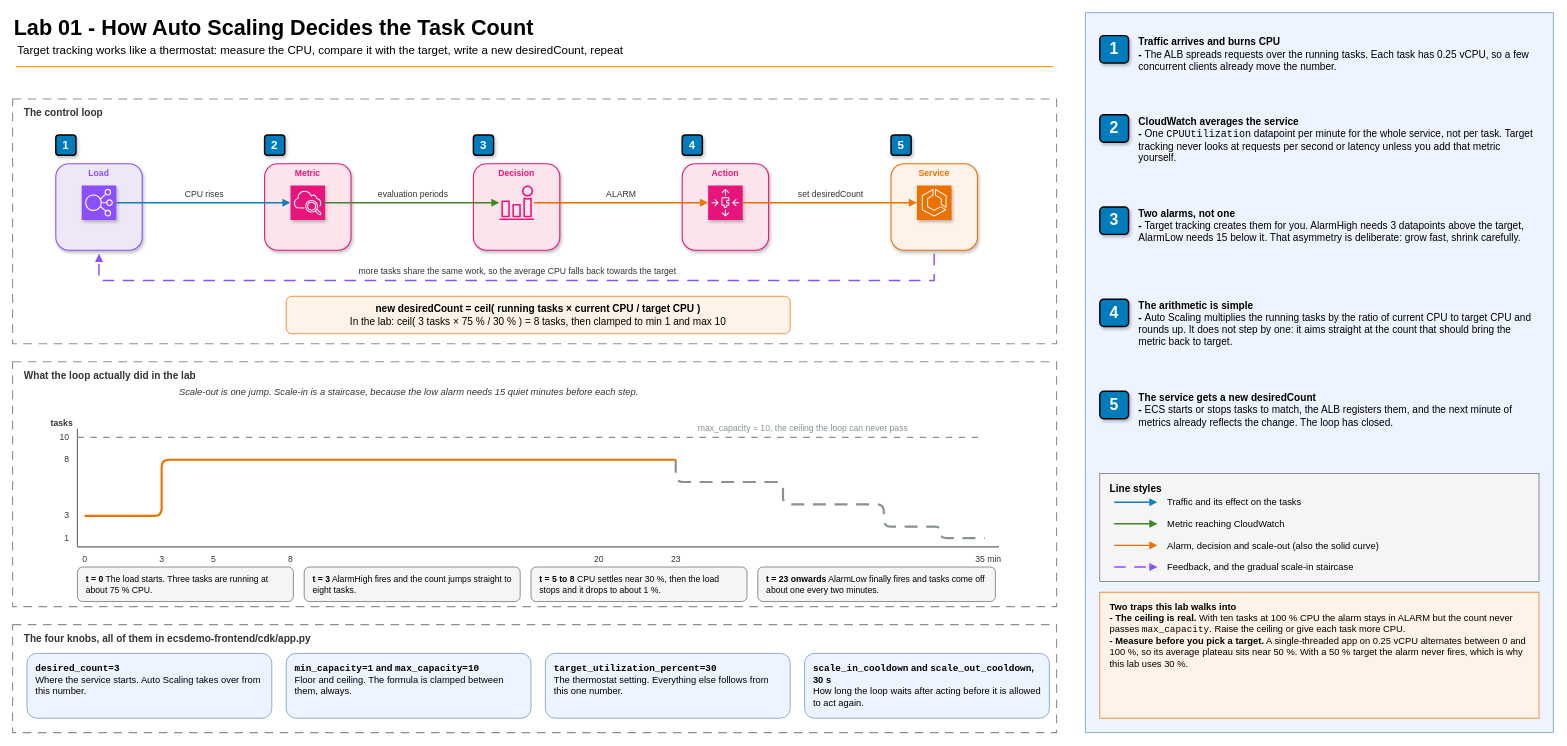
Image size: 1567x746. Some labels were removed from this diagram. Here are the shapes that lost their labels. From the top down, the centre of each, then its label:
At (99,203): "Traffic through the ALB requests burn CPU".
At (308,203): "CloudWatch 1 datapoint per minute".
At (516,202): "AlarmHigh and AlarmLow above 30 % or below 27 %".
At (726,203): "Application Auto Scaling computes the new count".
At (934,203): "ECS service desiredCount, 1 to 10".
